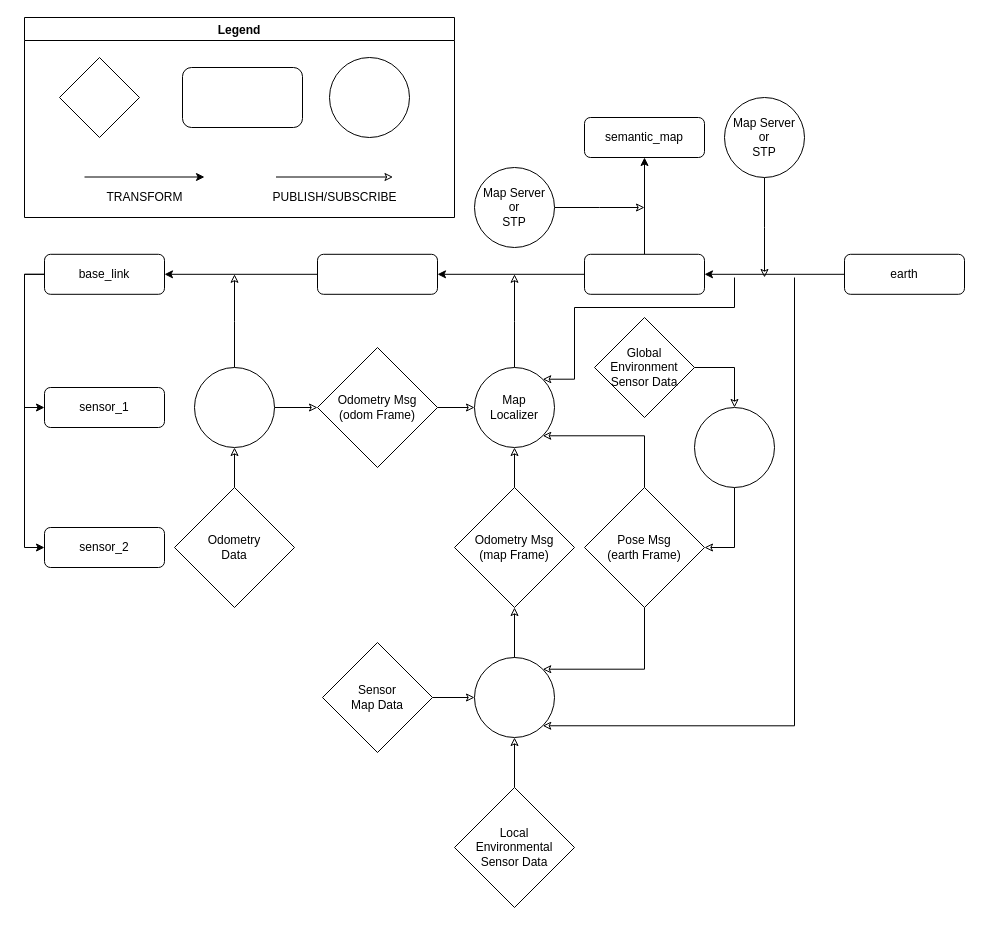
Image size: 982x925. Some labels were removed from this diagram. Each missing label, with the centre of its shape:
DATA: [99,97]
Environmental Sensor Localizer: [514,697]
FRAME: [242,97]
Global Sensor Localizer: [734,447]
map: [644,273]
NODE: [369,97]
odom: [377,273]
Odometry Localizer: [234,407]
